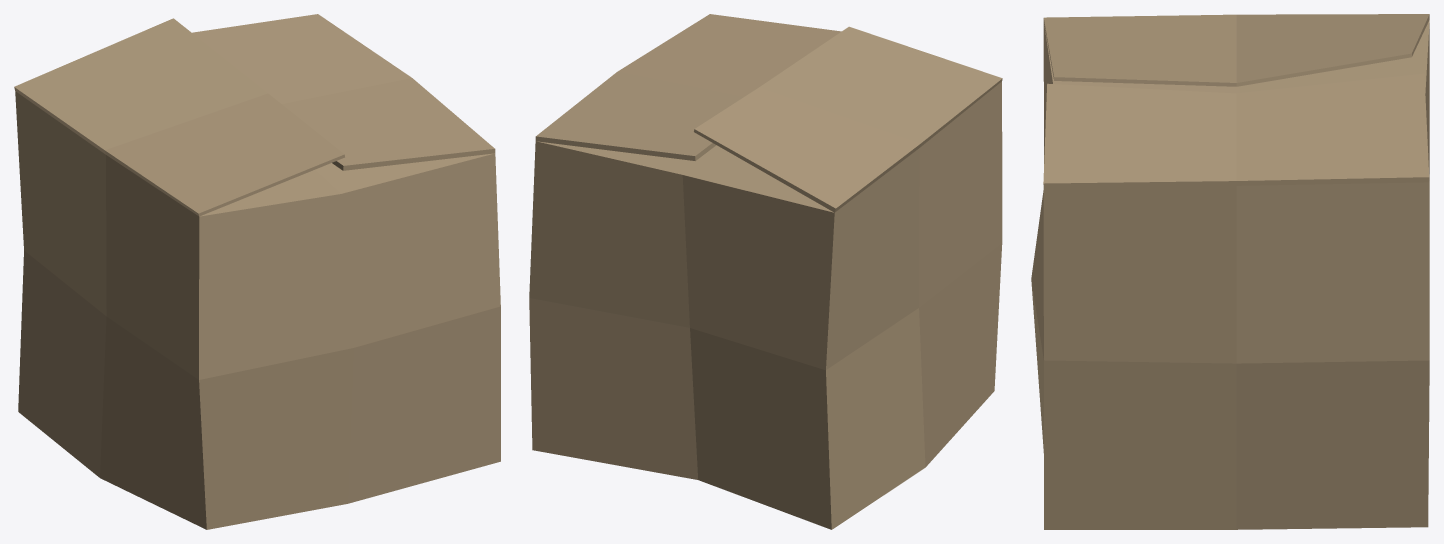
3 views of the same model, side by side, from view 1: azimuth 30°, elevation 25°; view 2: azimuth 150°, elevation 25°; view 3: azimuth 270°, elevation 25° (orthographic). The views are drawn at different scales.
Visible parts, largest first — view 1: Cube.256; view 2: Cube.256; view 3: Cube.256.
Part boxes in pixels (x1,y1,x2,y2): Cube.256: (14, 14, 500, 529); Cube.256: (529, 14, 1002, 529); Cube.256: (1031, 14, 1429, 529).
Size of the model in its own units: 208 by 227 by 207.
